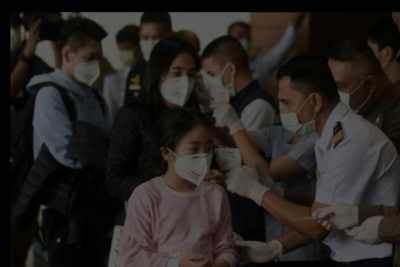with_mask: (171, 138, 211, 186), (158, 63, 196, 108), (329, 73, 363, 115), (277, 95, 308, 137), (71, 49, 99, 84), (202, 66, 229, 98), (137, 31, 165, 58), (118, 45, 138, 67)
